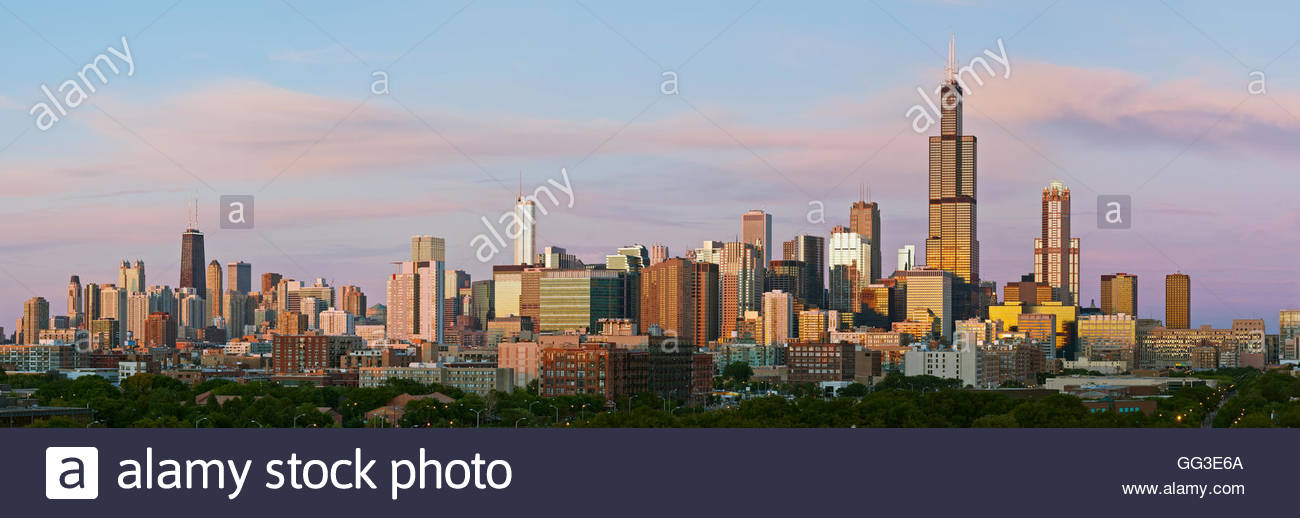willis: (916, 29, 990, 283)
